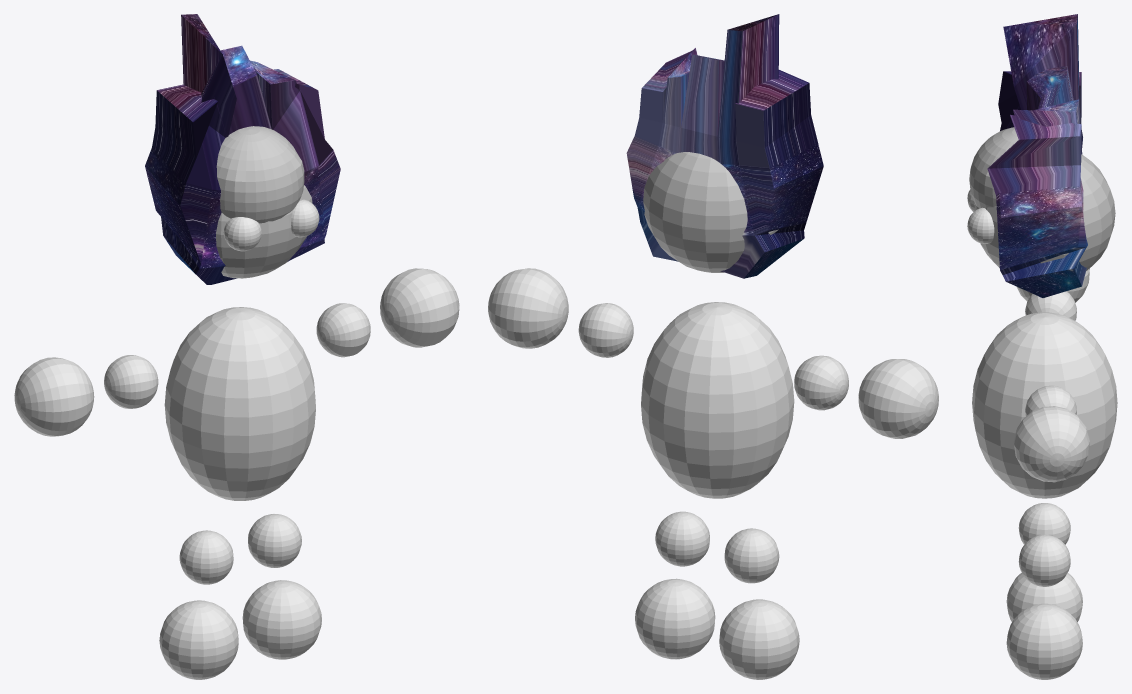
The model's file is Godfather.fbx.
3 renders of one model, left to right at view 1: azimuth 30°, elevation 25°; view 2: azimuth 150°, elevation 25°; view 3: azimuth 270°, elevation 25°, orthographic. The views are drawn at different scales.
Parts seen in each view (by area): view 1: Godfather head, Sphere, Godfather Eye, Sphere.015, Sphere.017, Sphere.003, Sphere.005, Sphere.001, Sphere.016, Sphere.004, Sphere.014, Sphere.002 (+1 smaller); view 2: Godfather head, Sphere, Sphere.001, Sphere.005, Sphere.017, Sphere.003, Sphere.015, Sphere.004, Sphere.002, Sphere.016, Sphere.014; view 3: Godfather head, Sphere, Sphere.003, Sphere.005, Sphere.001, Sphere.017, Sphere.002, Godfather Eye, Sphere.016, Sphere.014, Sphere.004, Sphere.006 (+1 smaller).
Boxes of the visible parts, x1,y1,x2,y2 form: Godfather head: (145, 14, 340, 284); Sphere: (164, 307, 315, 500); Godfather Eye: (216, 126, 304, 223); Sphere.015: (14, 357, 94, 436); Sphere.017: (159, 600, 238, 679); Sphere.003: (242, 580, 321, 659); Sphere.005: (380, 268, 459, 347); Sphere.001: (216, 185, 312, 278); Sphere.016: (179, 530, 233, 584); Sphere.004: (316, 303, 370, 357); Sphere.014: (104, 355, 158, 408); Sphere.002: (248, 514, 301, 567); Godfather head: (626, 14, 823, 278); Sphere: (641, 302, 794, 498); Sphere.001: (643, 152, 778, 272); Sphere.005: (488, 268, 568, 348); Sphere.017: (719, 599, 799, 679); Sphere.003: (635, 578, 715, 659); Sphere.015: (858, 359, 938, 438); Sphere.004: (578, 303, 633, 357); Sphere.002: (655, 511, 709, 566); Sphere.016: (724, 528, 779, 583); Sphere.014: (794, 355, 848, 410); Godfather head: (987, 14, 1087, 297); Sphere: (972, 312, 1117, 498); Sphere.003: (1006, 603, 1082, 679); Sphere.005: (1013, 406, 1089, 482); Sphere.001: (974, 154, 1115, 270); Sphere.017: (1006, 573, 1082, 621); Sphere.002: (1018, 534, 1070, 586); Godfather Eye: (969, 127, 1018, 208); Sphere.016: (1018, 503, 1070, 544); Sphere.014: (1025, 291, 1076, 320); Sphere.004: (1025, 385, 1076, 415); Sphere.006: (967, 189, 994, 243).
Bounding box in the file's own units: 171 × 244 × 53.35.
